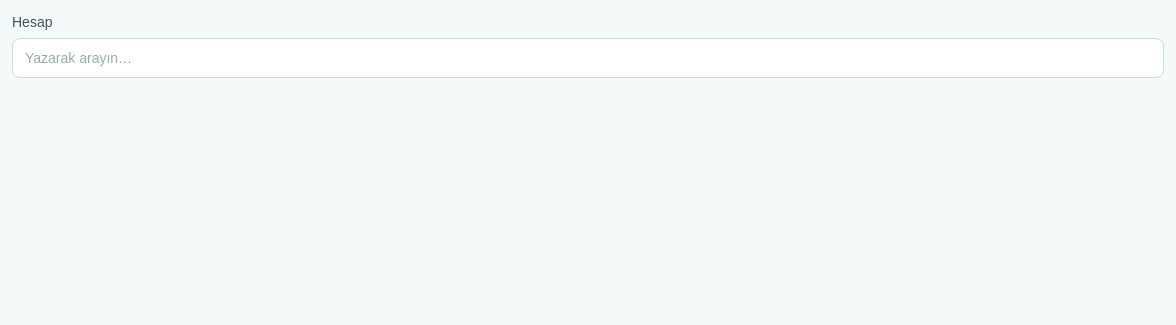
Test: aranabilir seçici › sık kullanılanlar yalnız arama boşken görünür
Focus the dropdown labelled "Hesap" at [588, 58], box 12,38 -> 1164,78
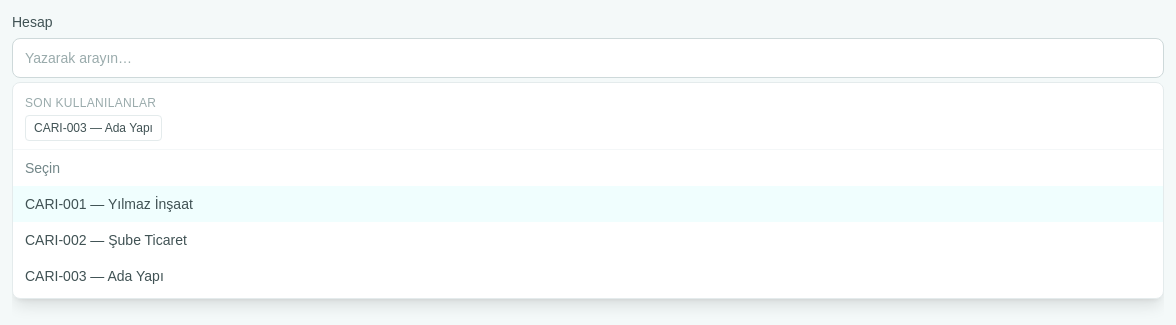
expect the text "Son kullanılanlar" is shown: met, box 25,96 -> 156,110
Note: Kullanıcı yazmaya başlayınca kısayollar sonucu boğmamalı.
Type "yıl" into the dropdown labelled "Hesap".
click(588, 58); type("yıl")  # box 12,38 -> 1164,78
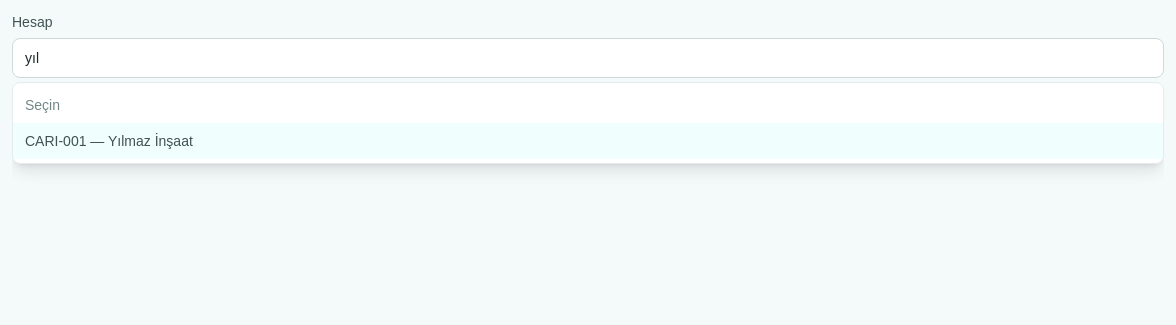
expect the text "Son kullanılanlar" is gone: met
